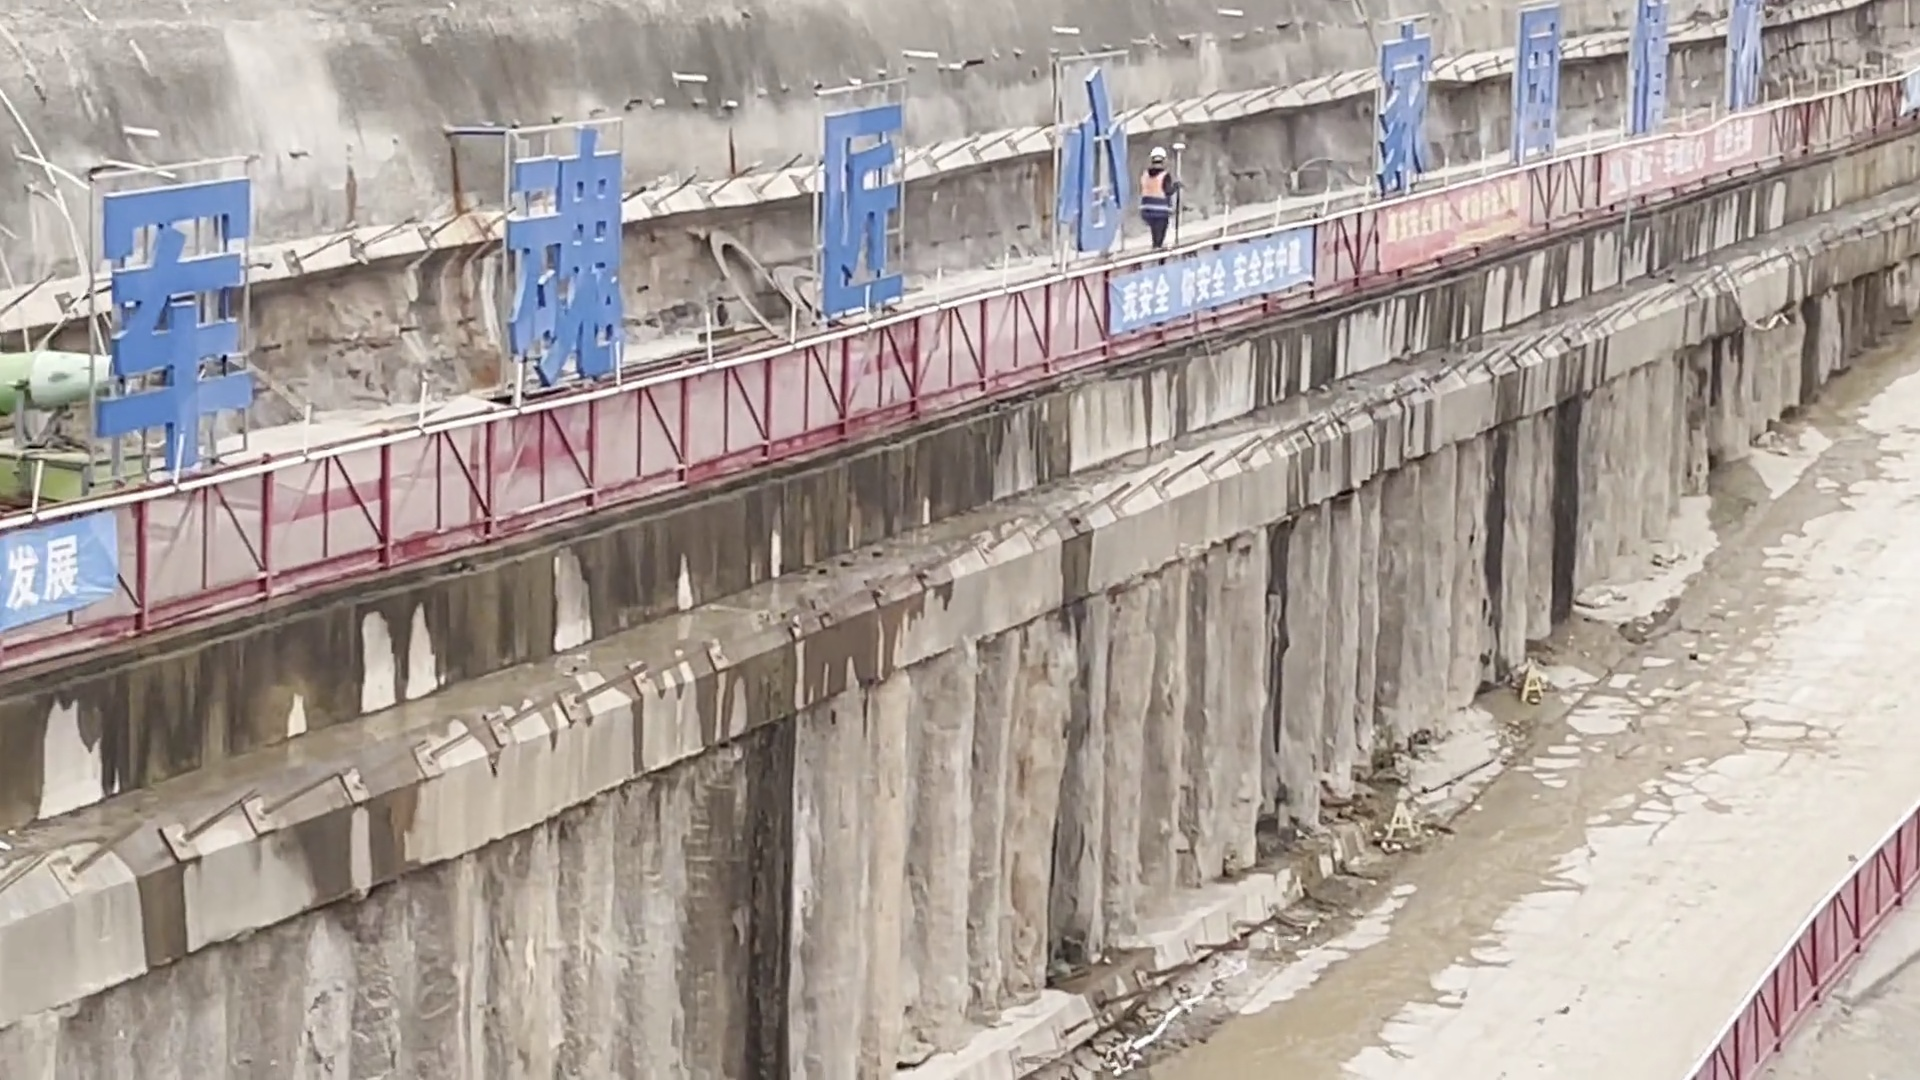fence: (9, 76, 1911, 673), (1694, 802, 1920, 1076)
helmet: (1149, 146, 1167, 160)
person: (1138, 146, 1180, 257)
slogan: (132, 14, 1136, 495), (1380, 1, 1765, 184), (1117, 234, 1307, 339), (1610, 120, 1755, 210), (1384, 180, 1518, 271), (4, 535, 114, 616)
vest: (1140, 169, 1166, 201)
